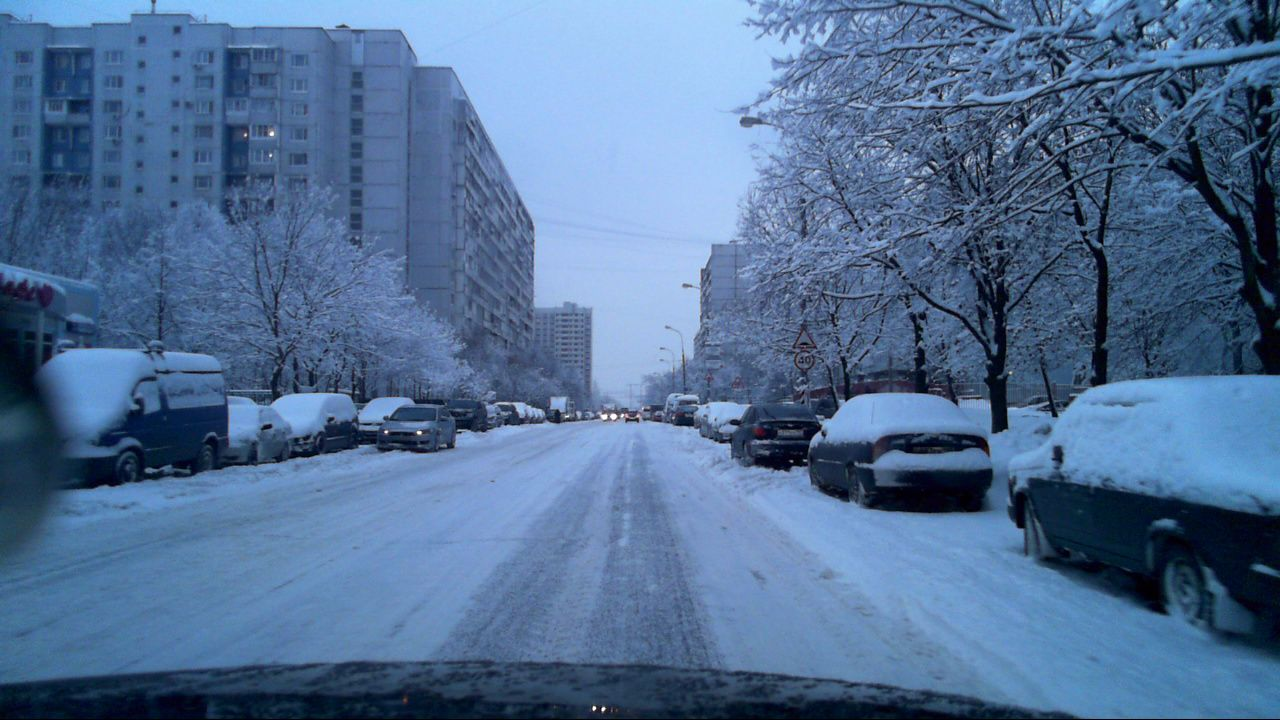speed_warning_40: (794, 347, 816, 371)
